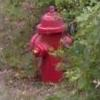Hydrant: (29, 4, 84, 91)
